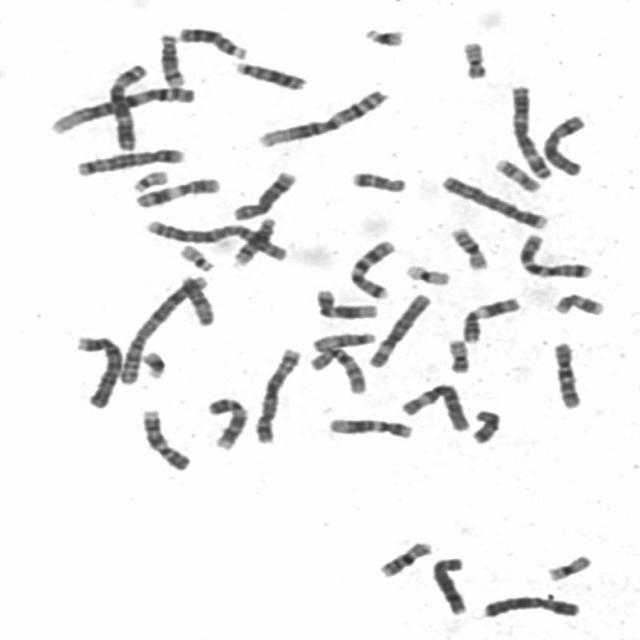A1: (255, 88, 387, 150), (51, 86, 198, 136)
A2: (118, 275, 210, 387), (145, 219, 289, 262)
A3: (508, 84, 553, 180), (110, 62, 148, 152)
B4: (439, 176, 549, 230), (73, 335, 124, 410)
B5: (255, 347, 301, 446), (75, 146, 186, 178)
C10: (308, 346, 368, 395), (550, 341, 585, 411)
C11: (134, 177, 223, 210), (462, 296, 522, 343)
C12: (326, 417, 414, 441), (315, 288, 379, 320)
C6: (366, 294, 434, 371), (398, 382, 473, 432)
C7: (515, 232, 595, 280), (348, 238, 398, 301)
C8: (230, 170, 300, 222), (427, 556, 470, 616)
C9: (137, 406, 194, 472), (208, 397, 249, 451)
D13: (233, 60, 310, 92), (180, 26, 248, 60)
D14: (231, 214, 277, 268), (158, 32, 187, 87)
D15: (180, 276, 218, 328), (312, 330, 378, 353)
E16: (376, 540, 434, 578), (449, 225, 489, 271)
E17: (492, 157, 541, 194), (554, 290, 605, 318)
E18: (347, 169, 411, 194), (469, 409, 504, 445)
F19: (543, 554, 592, 583), (405, 264, 452, 288)
F20: (460, 39, 490, 81), (446, 337, 472, 375)
G21: (361, 26, 409, 48), (142, 350, 168, 381)
G22: (178, 244, 214, 273), (132, 169, 171, 193)
X: (541, 114, 589, 178), (481, 593, 581, 618)
